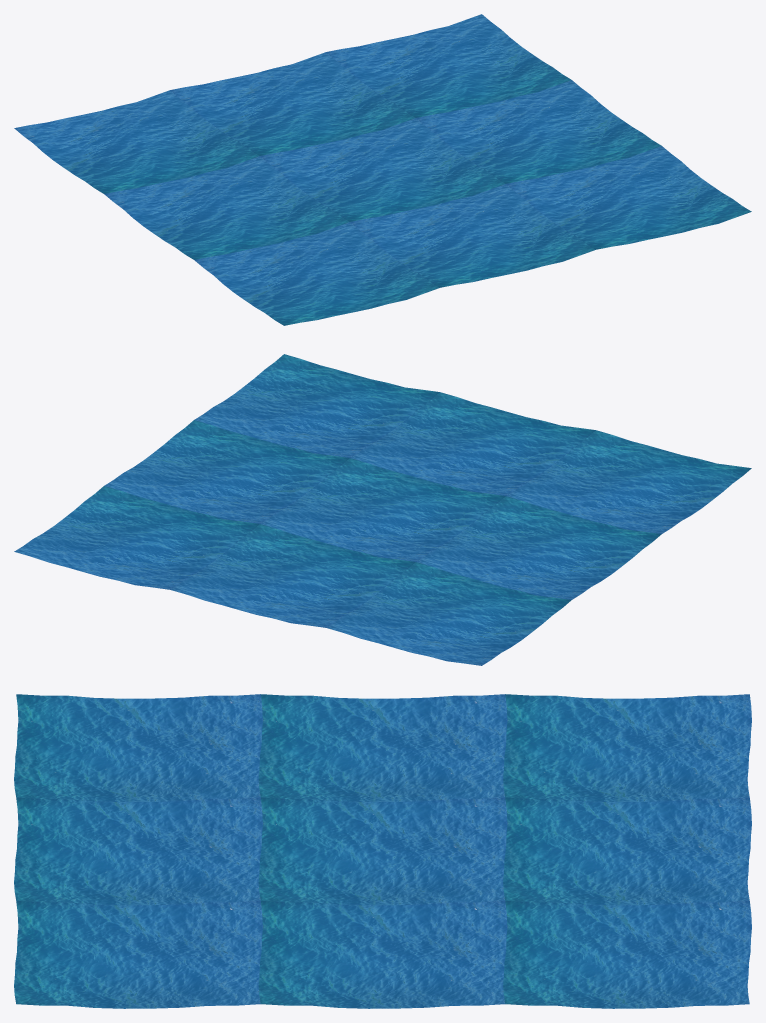
File: ocean_000208.obj
The picture shows the model from 3 angles, top to bottom: view 1: azimuth 30°, elevation 25°; view 2: azimuth 150°, elevation 25°; view 3: azimuth 270°, elevation 25°; orthographic projection. The views are drawn at different scales.
Visible parts, largest first — view 1: Ocean_Plan.001; view 2: Ocean_Plan.001; view 3: Ocean_Plan.001.
Part boxes in pixels (bbox=[...]): Ocean_Plan.001: bbox=[14, 14, 751, 325]; Ocean_Plan.001: bbox=[14, 354, 751, 665]; Ocean_Plan.001: bbox=[14, 694, 751, 1008].
Bounding box in the file's own units: 109055 × 1706 × 109620.
Materials: 1 (1 with a texture image).
